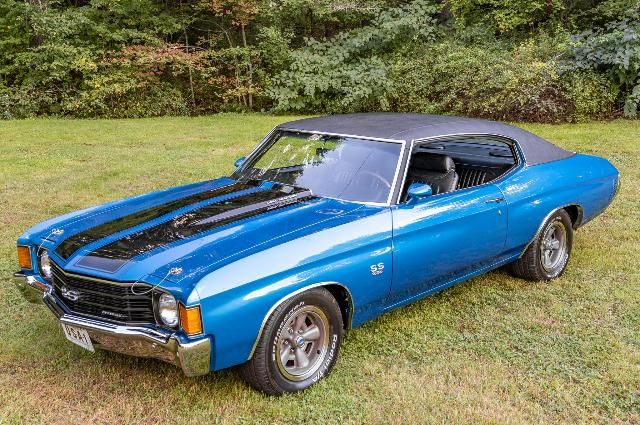chevelle-1972: (15, 113, 619, 395)
